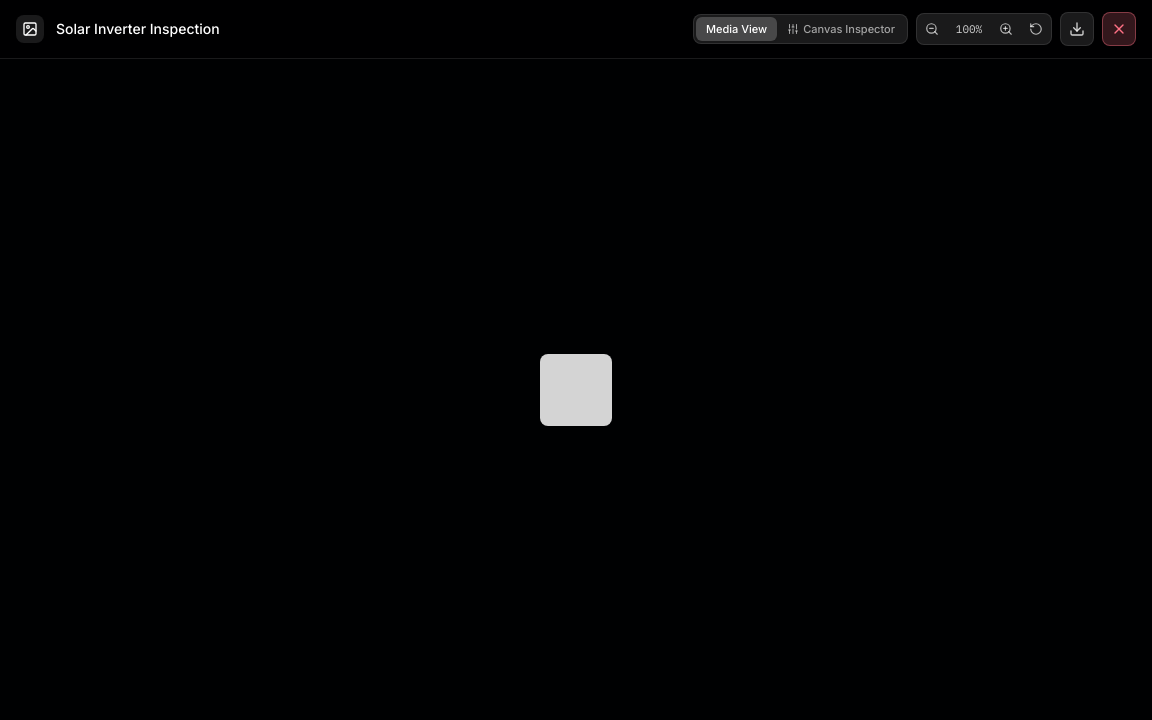
MediaLightboxModal › switches to canvas mode and shows grid toggle
Click the button "Canvas Inspector" at coordinates (841, 29), box [777,17,905,41]
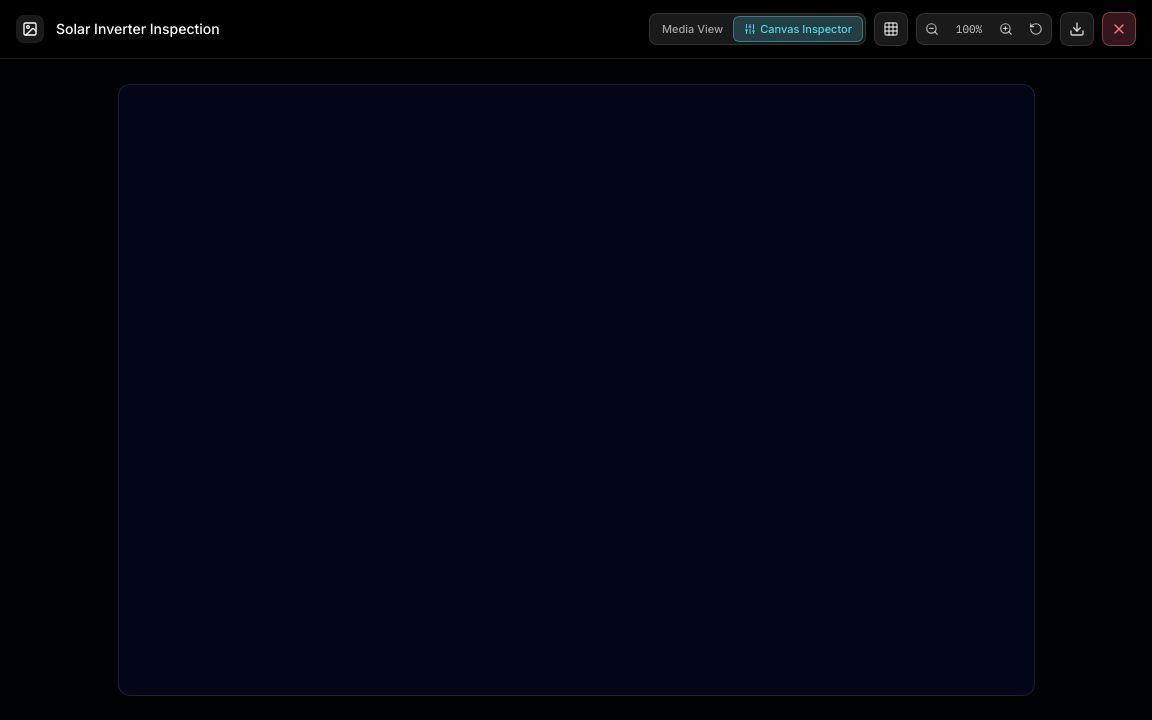
Check: the button named "grid overlay" is shown, box [874,12,908,46]
